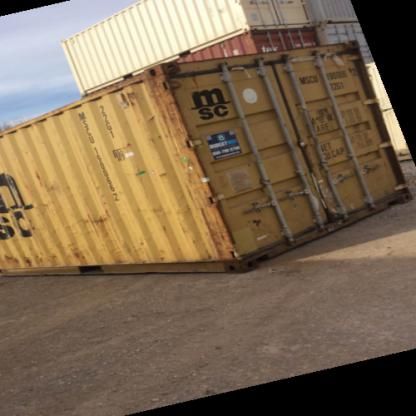Damage: (192, 180, 236, 258), (148, 71, 191, 148), (125, 236, 170, 266), (30, 164, 66, 199), (2, 246, 52, 270), (138, 197, 174, 230), (245, 208, 277, 244), (308, 95, 338, 133), (79, 202, 118, 226), (334, 36, 364, 63), (111, 80, 135, 108), (68, 243, 90, 265)
